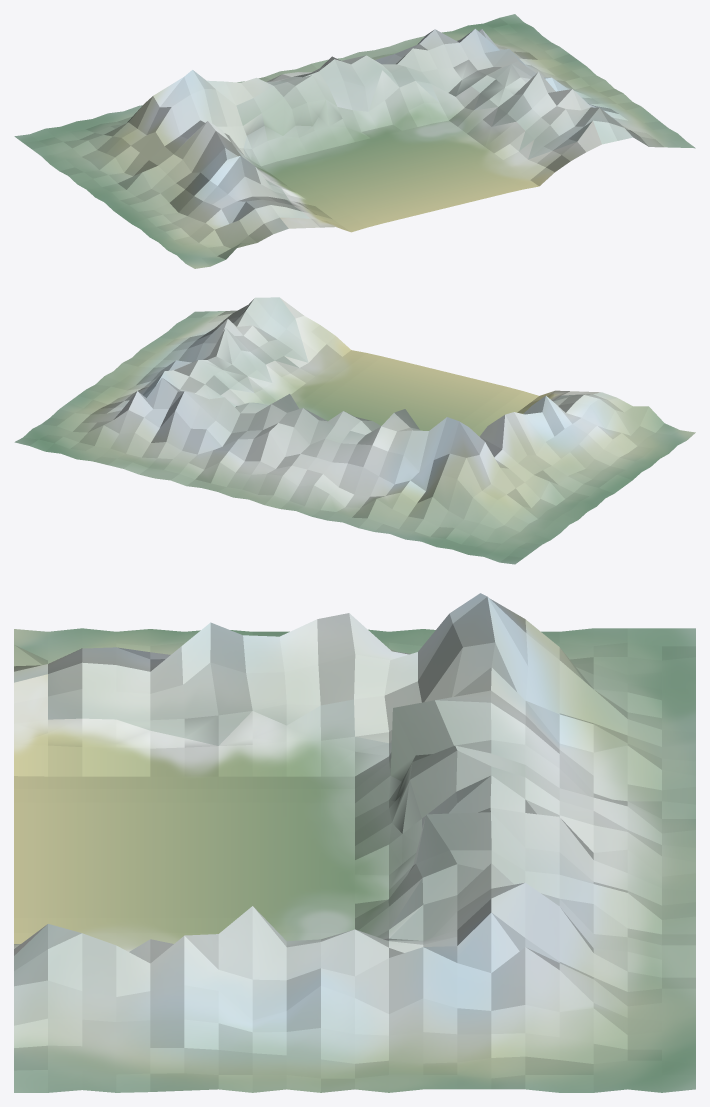
The model's file is Mountain.fbx.
The picture shows the model from 3 angles, top to bottom: view 1: azimuth 30°, elevation 25°; view 2: azimuth 150°, elevation 25°; view 3: azimuth 270°, elevation 25°; orthographic projection. The views are drawn at different scales.
Parts seen in each view (by area): view 1: Plane; view 2: Plane; view 3: Plane.
Boxes of the visible parts, x1,y1,x2,y2 form: Plane: (14, 14, 695, 268); Plane: (14, 297, 695, 564); Plane: (14, 593, 695, 1092).
Bounding box in the file's own units: 2822 × 427 × 1764.
